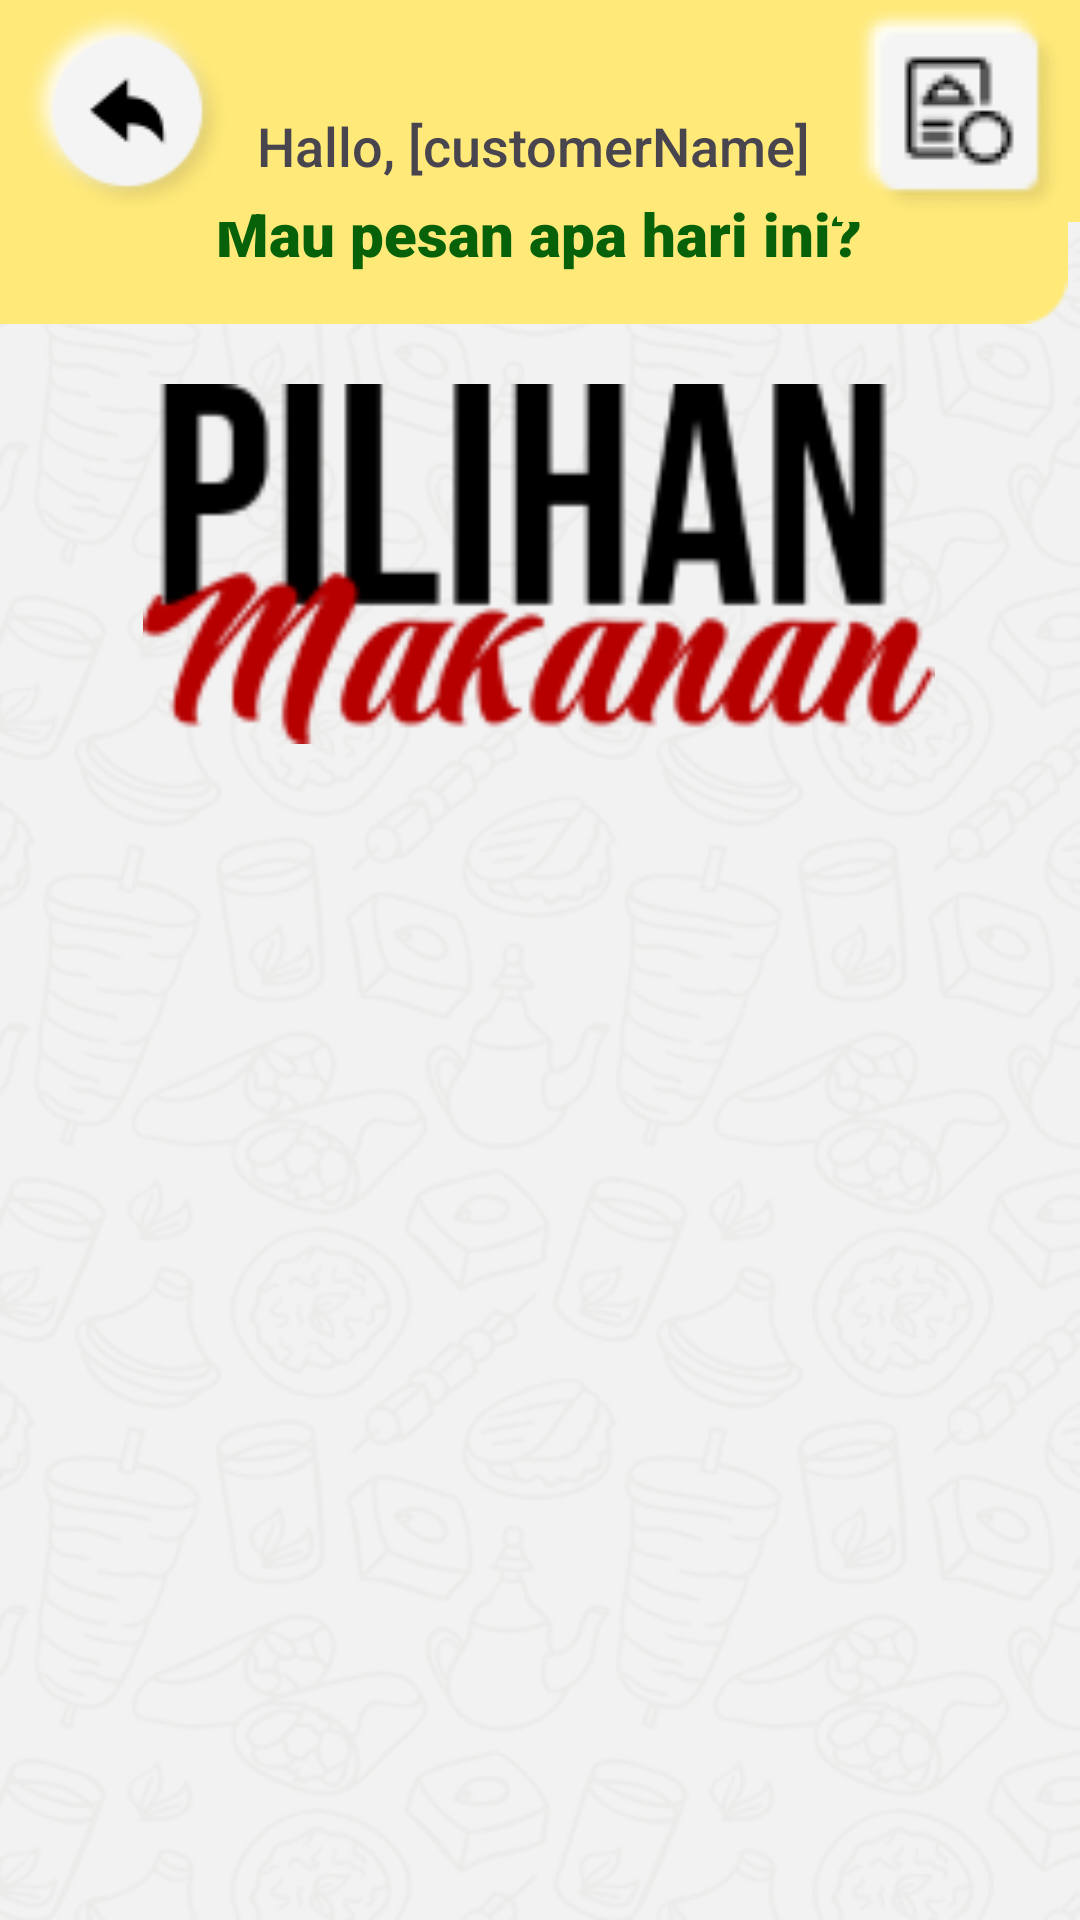

Icons on this 1080 x 1920 Android screen, each with its box as (x1, y1, x2, y2):
buttonkembali: (36, 20, 203, 187)
buttonviewmyorder: (863, 15, 1039, 191)
